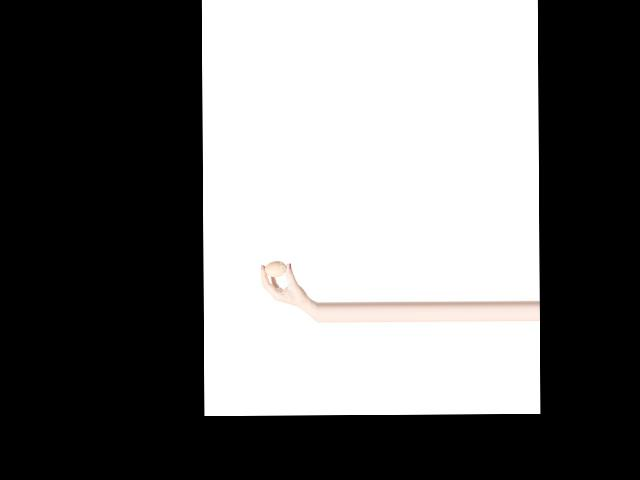egg: (265, 262, 286, 277)
